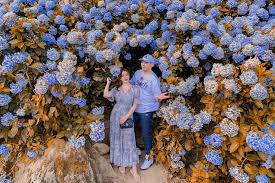people: (107, 67, 142, 180), (132, 54, 160, 173)
